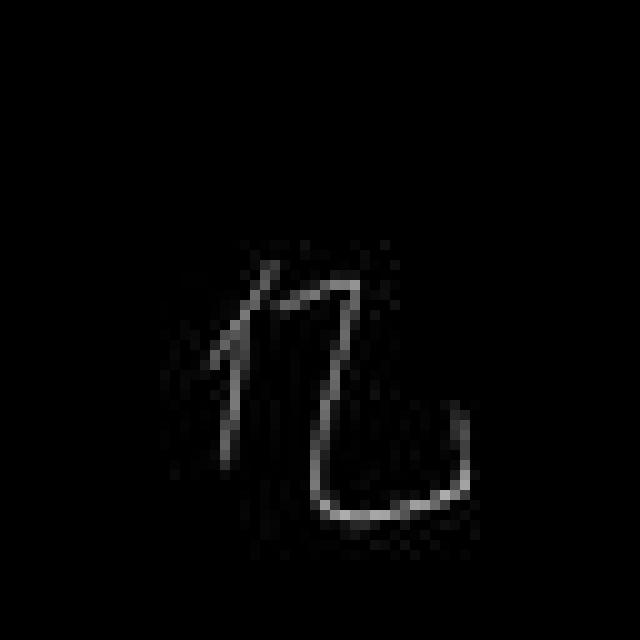100000 -a hundred thousand-: (200, 253, 478, 534)
